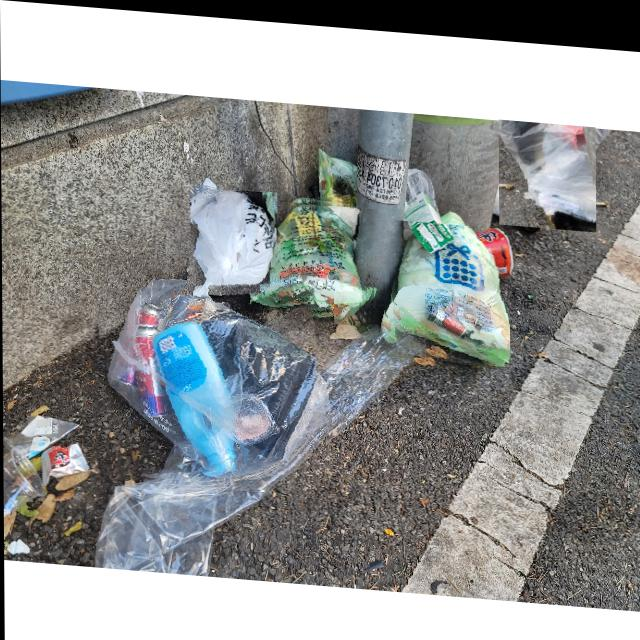general_trashbag: (384, 213, 510, 363), (265, 197, 377, 319)
other_trashbag: (94, 277, 333, 473), (498, 111, 595, 220), (187, 183, 276, 301)
